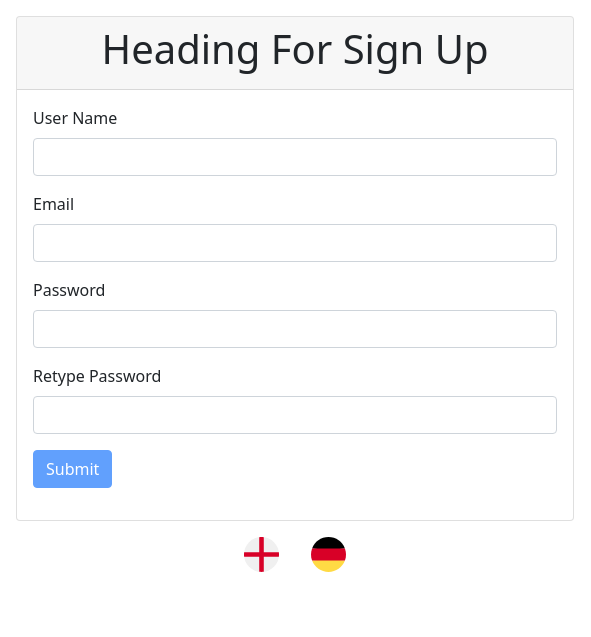
Test: sign up page › translations › display german language when pressing on german flag
Click the icon with test id "de-flag". click: coordinates (328, 554)
box: [311, 537, 346, 572]
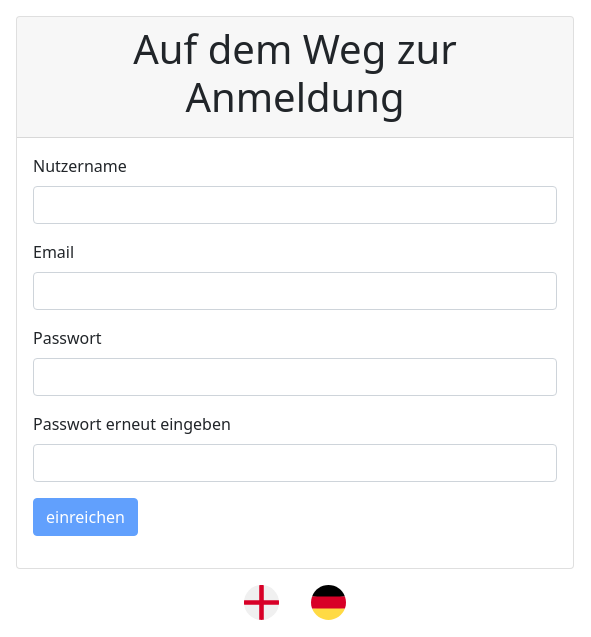
expect the heading "Auf dem Weg zur Anmeldung" is shown: met, box [133, 21, 457, 124]
expect the text "Nutzername" is shown: met, box [33, 154, 127, 178]
expect the text "Passwort" is shown: met, box [33, 326, 102, 350]
